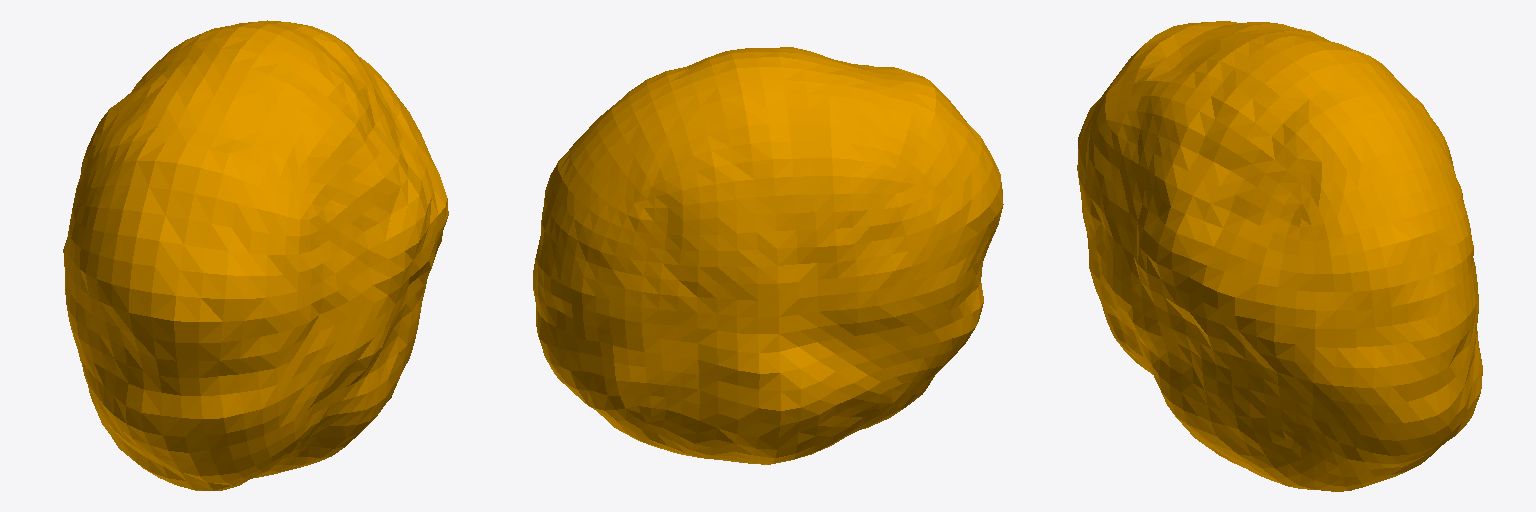
The robot description file, URDF, robot "rock":
<?xml version="1.0" ?>
<robot name="rock">
  <link name="rock">
    <inertial>
      <mass value="0.254"/>
      <origin rpy="0 0 0" xyz="0 0 0"/>
      <inertia ixx="0.000254" ixy="0" ixz="0" iyy="0.000254" iyz="0" izz="0.000254"/>
    </inertial>
    <collision name="rock_collision">
      <origin rpy="0 0 0" xyz="0 0 0"/>
      <geometry>
        <mesh filename="package://rocks/visual/249.dae" scale="1 1 1"/>
      </geometry>
    </collision>
    <visual name="rock_visual">
      <origin rpy="0 0 0" xyz="0 0 0"/>
      <geometry>
        <mesh filename="package://rocks/visual/249.dae" scale="1 1 1"/>
      </geometry>
    </visual>
  </link>
</robot>

--- What the picture shows (computed from the rendered views, not written in the file) ---
The picture shows the robot from 3 angles, left to right: view 1: azimuth 30°, elevation 25°; view 2: azimuth 150°, elevation 25°; view 3: azimuth 270°, elevation 25°; orthographic projection.
Robot: rock — 1 links, 0 joints (none); root link rock; default pose: all joints at 0.
Visible links, largest first — view 1: rock; view 2: rock; view 3: rock.
Boxes of the visible links, x1,y1,x2,y2 form: rock: [63, 20, 448, 490]; rock: [533, 47, 1003, 464]; rock: [1077, 21, 1482, 491].
Bounding box of the posed robot: 0.072 × 0.0636 × 0.0732 m (x, y, z).
Meshes: 1 distinct files referenced, 1 mesh visuals loaded (1 Collada DAE).